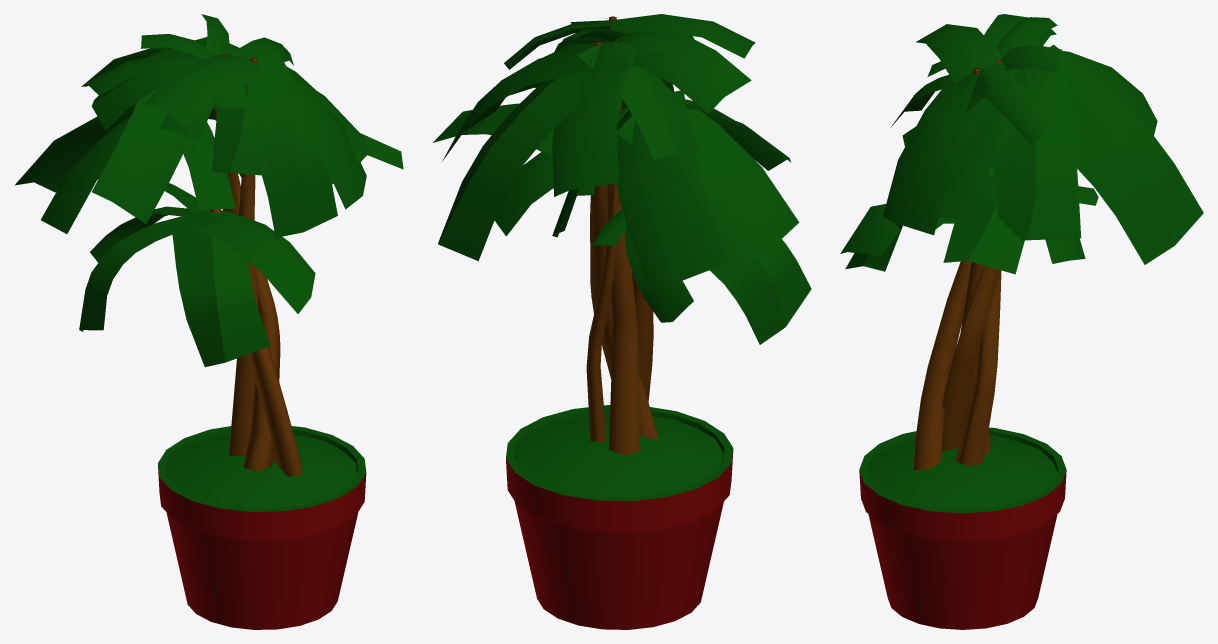
File: houseplant.obj
The picture shows the model from 3 angles, left to right: view 1: azimuth 30°, elevation 25°; view 2: azimuth 150°, elevation 25°; view 3: azimuth 270°, elevation 25°; orthographic projection. The views are drawn at different scales.
Parts seen in each view (by area): view 1: b, a, c; view 2: b, a, c; view 3: b, a, c.
Part boxes in pixels (x1,y1,x2,y2): b: [15, 14, 403, 511]; a: [158, 466, 366, 629]; c: [207, 54, 302, 476]; b: [433, 14, 811, 501]; a: [506, 450, 733, 629]; c: [586, 16, 657, 455]; b: [840, 14, 1203, 513]; a: [859, 470, 1066, 629]; c: [914, 59, 1001, 469].
Bounding box in the file's own units: 37.41 × 60.62 × 36.63.
